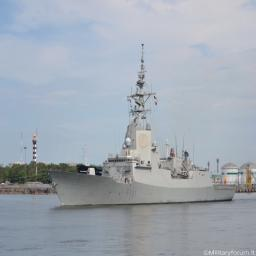Fragata: (45, 45, 240, 210)
